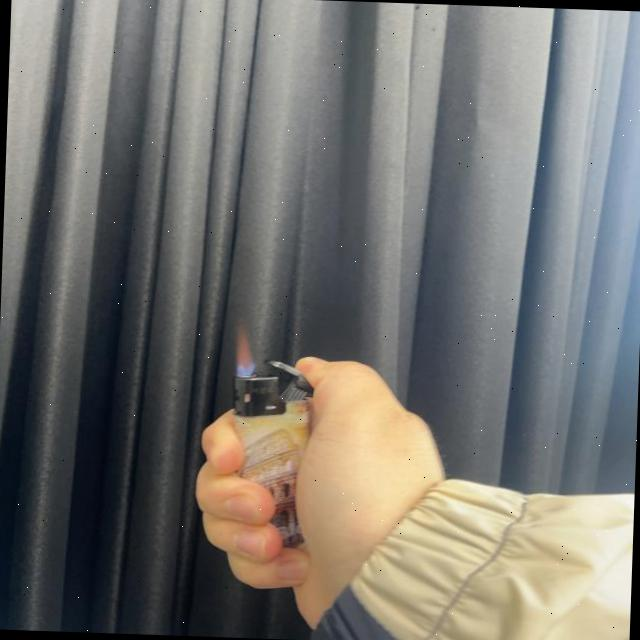fire: (230, 324, 258, 376)
